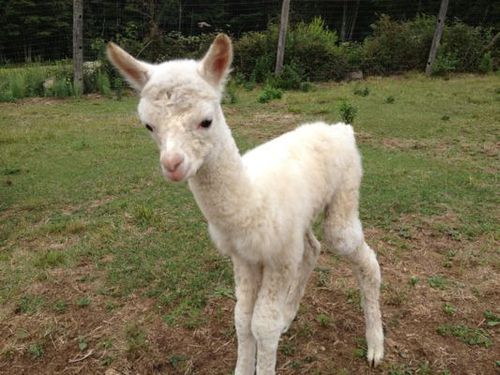alpaca: (103, 33, 386, 375)
